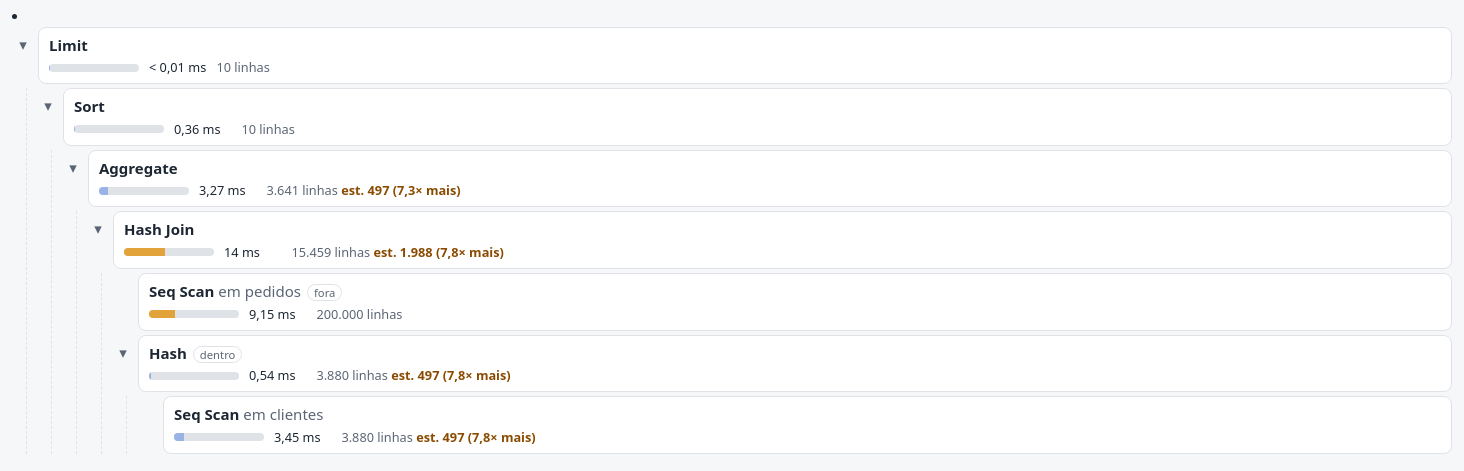
Test: árvore do plano › recolhe e expande os filhos, avisando o leitor de tela
Click the 1st button with class "recolher" at point(23, 44), box [12,26,34,61]
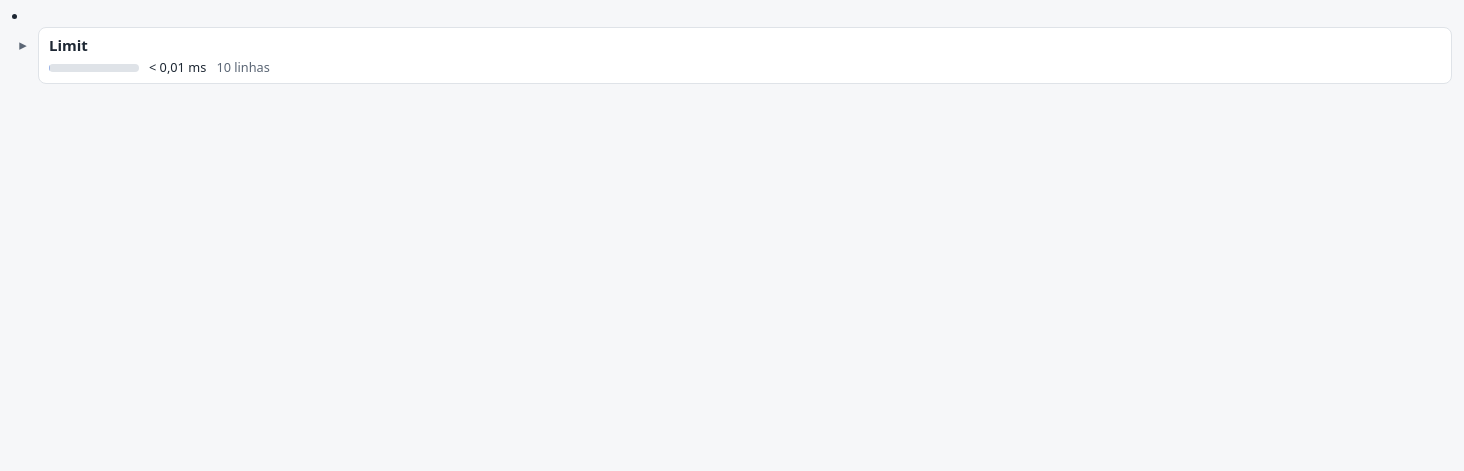
Result: the number of buttons with class "cartao" is 1 at [38,26,1452,84]
Result: the button with class "recolher" is collapsed at [12,26,34,61]
